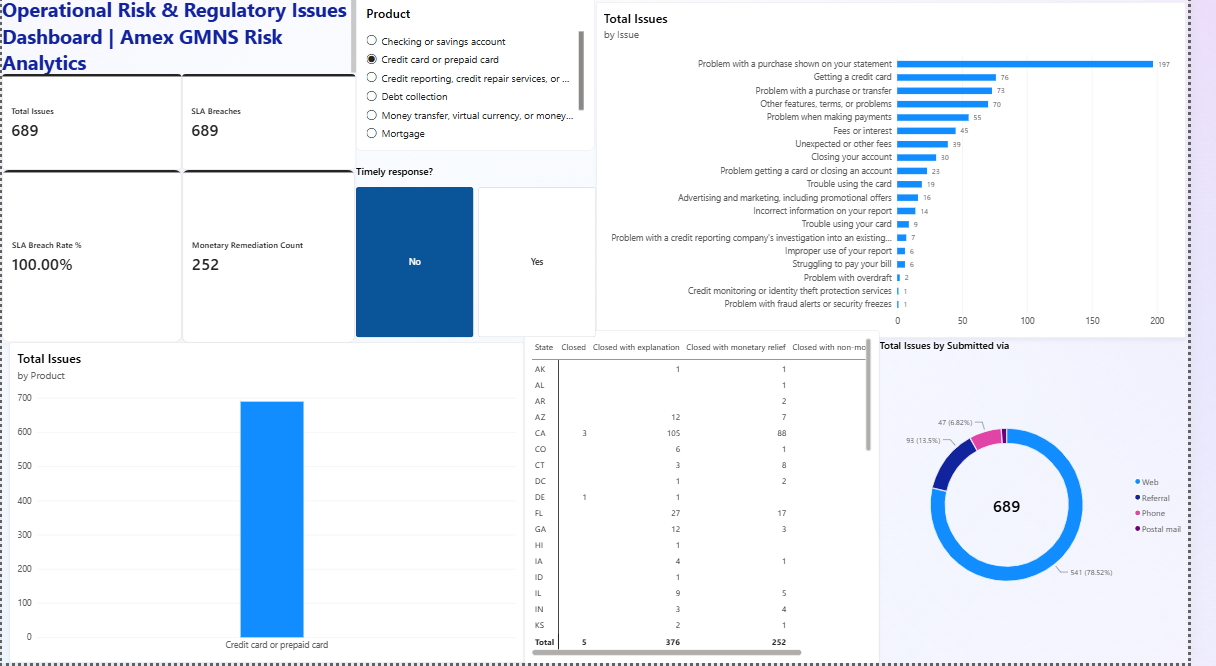

The dashboard page shown, as its layout file describes it:
{"tool":"powerbi","page":{"name":"Executive Risk Overview","canvas":[1920,1080],"ordinal":0},"visuals":[{"type":"cardVisual","fields":{"Data":["_Measures.Total_Issues"]},"box":[0,126.3,291.5,155.4],"z":0},{"type":"cardVisual","fields":{"Data":["_Measures.SLA_Breaches"]},"box":[291.5,126.3,281.7,155.4],"z":1000},{"type":"cardVisual","fields":{"Data":["_Measures.Monetary Remediation_Count"]},"box":[292,280.6,280.6,280.6],"z":2000},{"type":"cardVisual","fields":{"Data":["_Measures.SLA Breach_Rate %"]},"box":[0,281.7,291.5,279.3],"z":3000},{"type":"clusteredBarChart","fields":{"Category":["Real_CFPB_Consumer_Complaints.Issue"],"Y":["Real_CFPB_Consumer_Complaints.Total Issues"]},"box":[961,8.5,955.3,544.3],"z":4000},{"type":"donutChart","fields":{"Category":["Real_CFPB_Consumer_Complaints.Submitted via"],"Y":["Real_CFPB_Consumer_Complaints.Total Issues"]},"box":[1420.9,553.8,497.9,502.8],"z":5000},{"type":"clusteredColumnChart","fields":{"Category":["Real_CFPB_Consumer_Complaints.Product"],"Y":["Real_CFPB_Consumer_Complaints.Total Issues"]},"box":[11.3,561.3,833.4,518.7],"z":6000},{"type":"pivotTable","fields":{"Columns":["Real_CFPB_Consumer_Complaints.Company response to consumer"],"Rows":["Real_CFPB_Consumer_Complaints.State"],"Values":["Real_CFPB_Consumer_Complaints.Total Issues"]},"box":[844.6,582.2,577.4,498.7],"z":7000},{"type":"listSlicer","fields":{"Values":["Real_CFPB_Consumer_Complaints.Product"]},"box":[573.2,0,386.2,250.2],"z":8000},{"type":"advancedSlicerVisual","fields":{"Values":["Dim_Geography.Region"]},"box":[572.6,250.5,388.9,303],"z":9000},{"type":"textbox","box":[0,0,573.2,126.3],"z":10000}]}

Visuals, with their boxes in screenshot pixels (x1, y1, x2, y2), scaled from the page's 1920x1080 canvas onto the 1216x666 screenshot:
cardVisual - _Measures.Total_Issues: select_region(0, 78, 185, 174)
cardVisual - _Measures.SLA_Breaches: select_region(185, 78, 363, 174)
cardVisual - _Measures.Monetary Remediation_Count: select_region(185, 173, 363, 346)
cardVisual - _Measures.SLA Breach_Rate %: select_region(0, 174, 185, 346)
clusteredBarChart - Real_CFPB_Consumer_Complaints.Issue x Real_CFPB_Consumer_Complaints.Total Issues: select_region(609, 5, 1214, 341)
donutChart - Real_CFPB_Consumer_Complaints.Submitted via x Real_CFPB_Consumer_Complaints.Total Issues: select_region(900, 342, 1215, 652)
clusteredColumnChart - Real_CFPB_Consumer_Complaints.Product x Real_CFPB_Consumer_Complaints.Total Issues: select_region(7, 346, 535, 665)
pivotTable - Real_CFPB_Consumer_Complaints.Company response to consumer x Real_CFPB_Consumer_Complaints.State: select_region(535, 359, 901, 665)
listSlicer - Real_CFPB_Consumer_Complaints.Product: select_region(363, 0, 608, 154)
advancedSlicerVisual - Dim_Geography.Region: select_region(363, 154, 609, 341)
textbox: select_region(0, 0, 363, 78)
